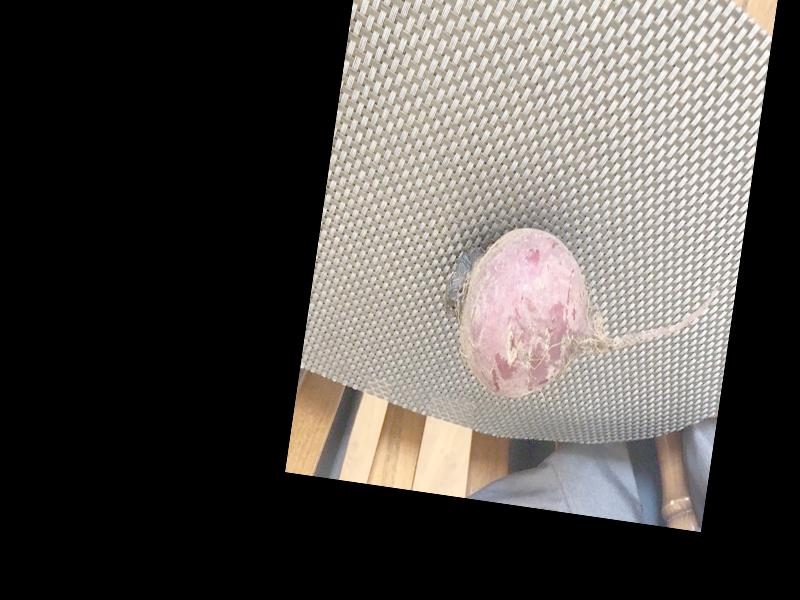Beet: (428, 218, 717, 426)
